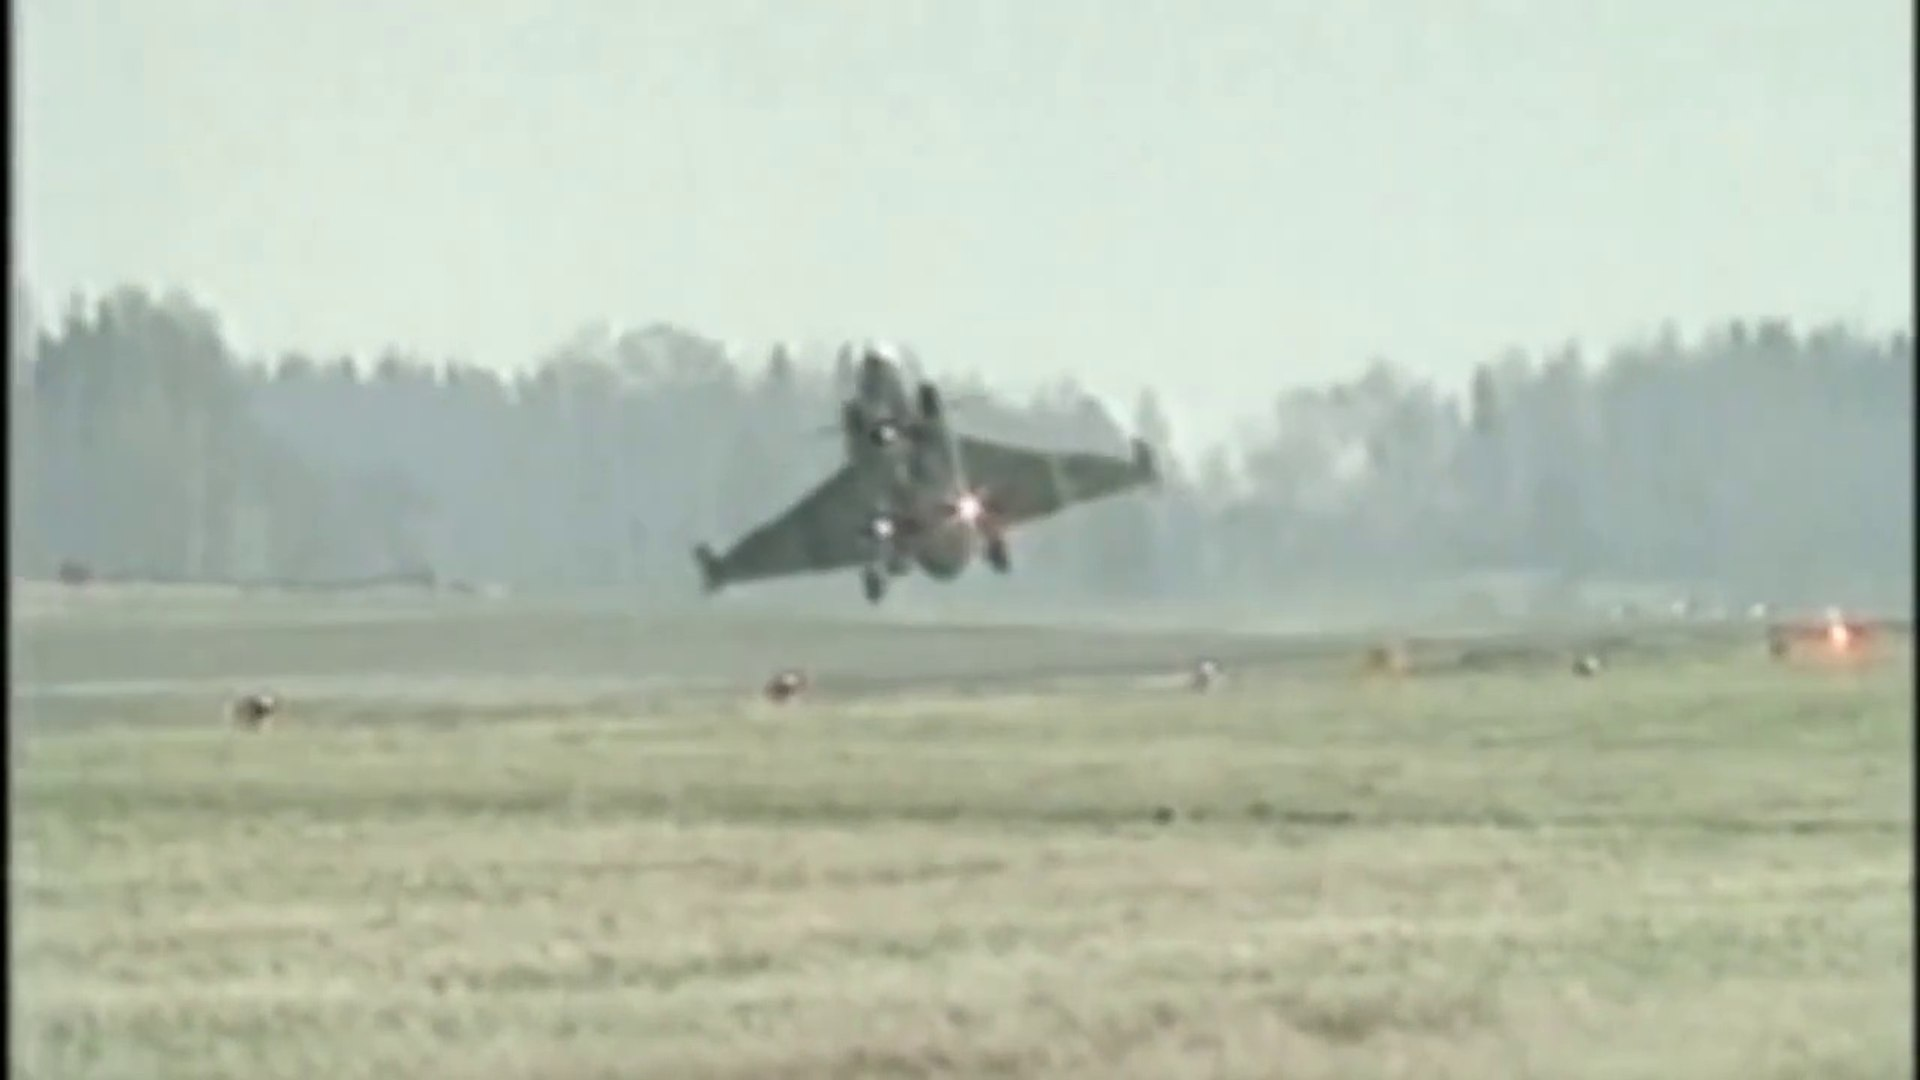JAS39: (688, 338, 1166, 607)
